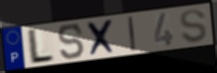4: (153, 11, 175, 48)
I: (127, 15, 138, 53)
L: (27, 27, 56, 66)
S: (57, 22, 87, 61), (179, 8, 209, 44)
X: (85, 17, 118, 58)
